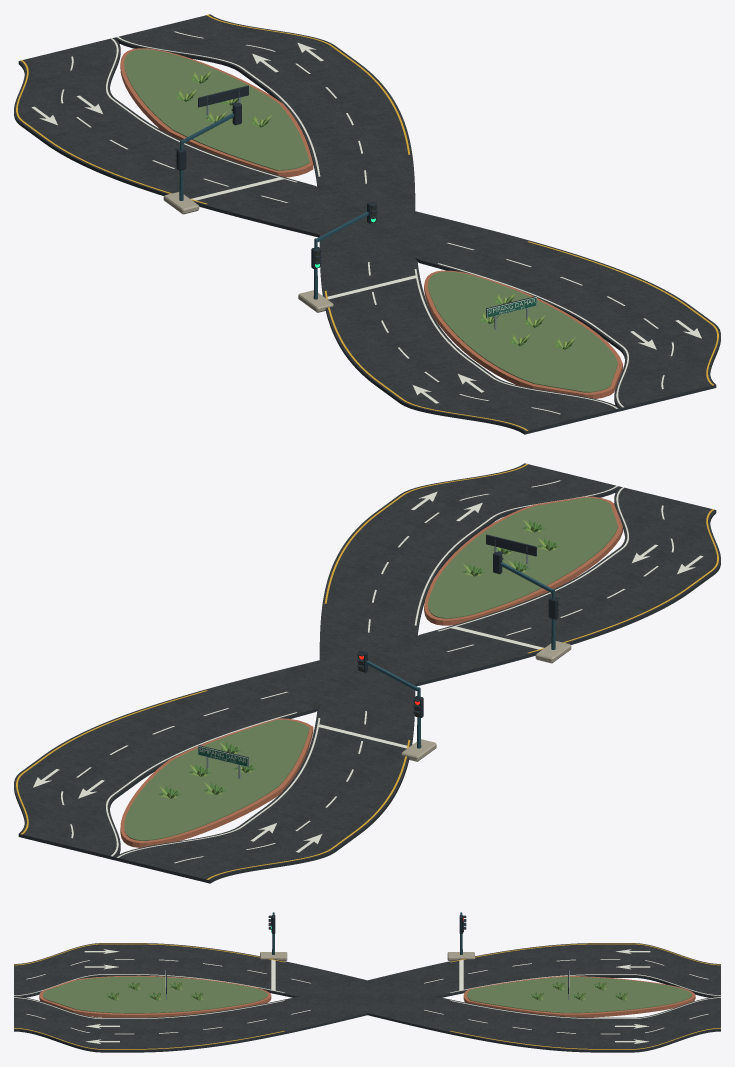
3 renders of one model, top to bottom at view 1: azimuth 30°, elevation 25°; view 2: azimuth 150°, elevation 25°; view 3: azimuth 270°, elevation 25°, orthographic. The views are drawn at different scales.
Visible parts, largest first — view 1: Crossover carriageways, Grassed separator islands, Terracotta median rims, Channelisation stripes, Pandan rosettes, Direction arrows, Enamel nameplates, Broken lane guides, Signal refuge bases, Visored signal backplates; view 2: Crossover carriageways, Grassed separator islands, Terracotta median rims, Channelisation stripes, Pandan rosettes, Direction arrows, Enamel nameplates, Broken lane guides, Signal refuge bases, Visored signal backplates; view 3: Crossover carriageways, Grassed separator islands, Terracotta median rims, Channelisation stripes, Broken lane guides, Pandan rosettes, Direction arrows, Signal refuge bases, Stop bars.
Boxes of the visible parts, left/top/right/bottom form: Crossover carriageways: left=14, top=14, right=720, bottom=434; Grassed separator islands: left=124, top=49, right=617, bottom=392; Terracotta median rims: left=120, top=48, right=622, bottom=398; Channelisation stripes: left=16, top=15, right=718, bottom=430; Pandan rosettes: left=175, top=71, right=575, bottom=349; Direction arrows: left=31, top=42, right=701, bottom=403; Enamel nameplates: left=198, top=85, right=536, bottom=318; Broken lane guides: left=61, top=31, right=673, bottom=414; Signal refuge bases: left=163, top=192, right=333, bottom=312; Visored signal backplates: left=176, top=103, right=376, bottom=268; Crossover carriageways: left=14, top=463, right=720, bottom=883; Grassed separator islands: left=124, top=497, right=617, bottom=840; Terracotta median rims: left=120, top=496, right=622, bottom=847; Channelisation stripes: left=16, top=464, right=718, bottom=879; Pandan rosettes: left=158, top=519, right=561, bottom=798; Direction arrows: left=33, top=491, right=703, bottom=852; Enamel nameplates: left=198, top=534, right=536, bottom=767; Broken lane guides: left=61, top=480, right=673, bottom=863; Signal refuge bases: left=401, top=641, right=571, bottom=761; Visored signal backplates: left=358, top=552, right=558, bottom=717; Crossover carriageways: left=14, top=943, right=720, bottom=1052; Grassed separator islands: left=43, top=976, right=691, bottom=1013; Terracotta median rims: left=39, top=975, right=695, bottom=1017; Channelisation stripes: left=14, top=943, right=720, bottom=1049; Broken lane guides: left=26, top=959, right=708, bottom=1034; Pandan rosettes: left=106, top=982, right=627, bottom=1001; Direction arrows: left=84, top=949, right=650, bottom=1043; Signal refuge bases: left=260, top=952, right=474, bottom=960; Stop bars: left=271, top=960, right=463, bottom=990.
Size of the model in its own units: 23 by 6.13 by 64.
17 materials, 1 textured.
